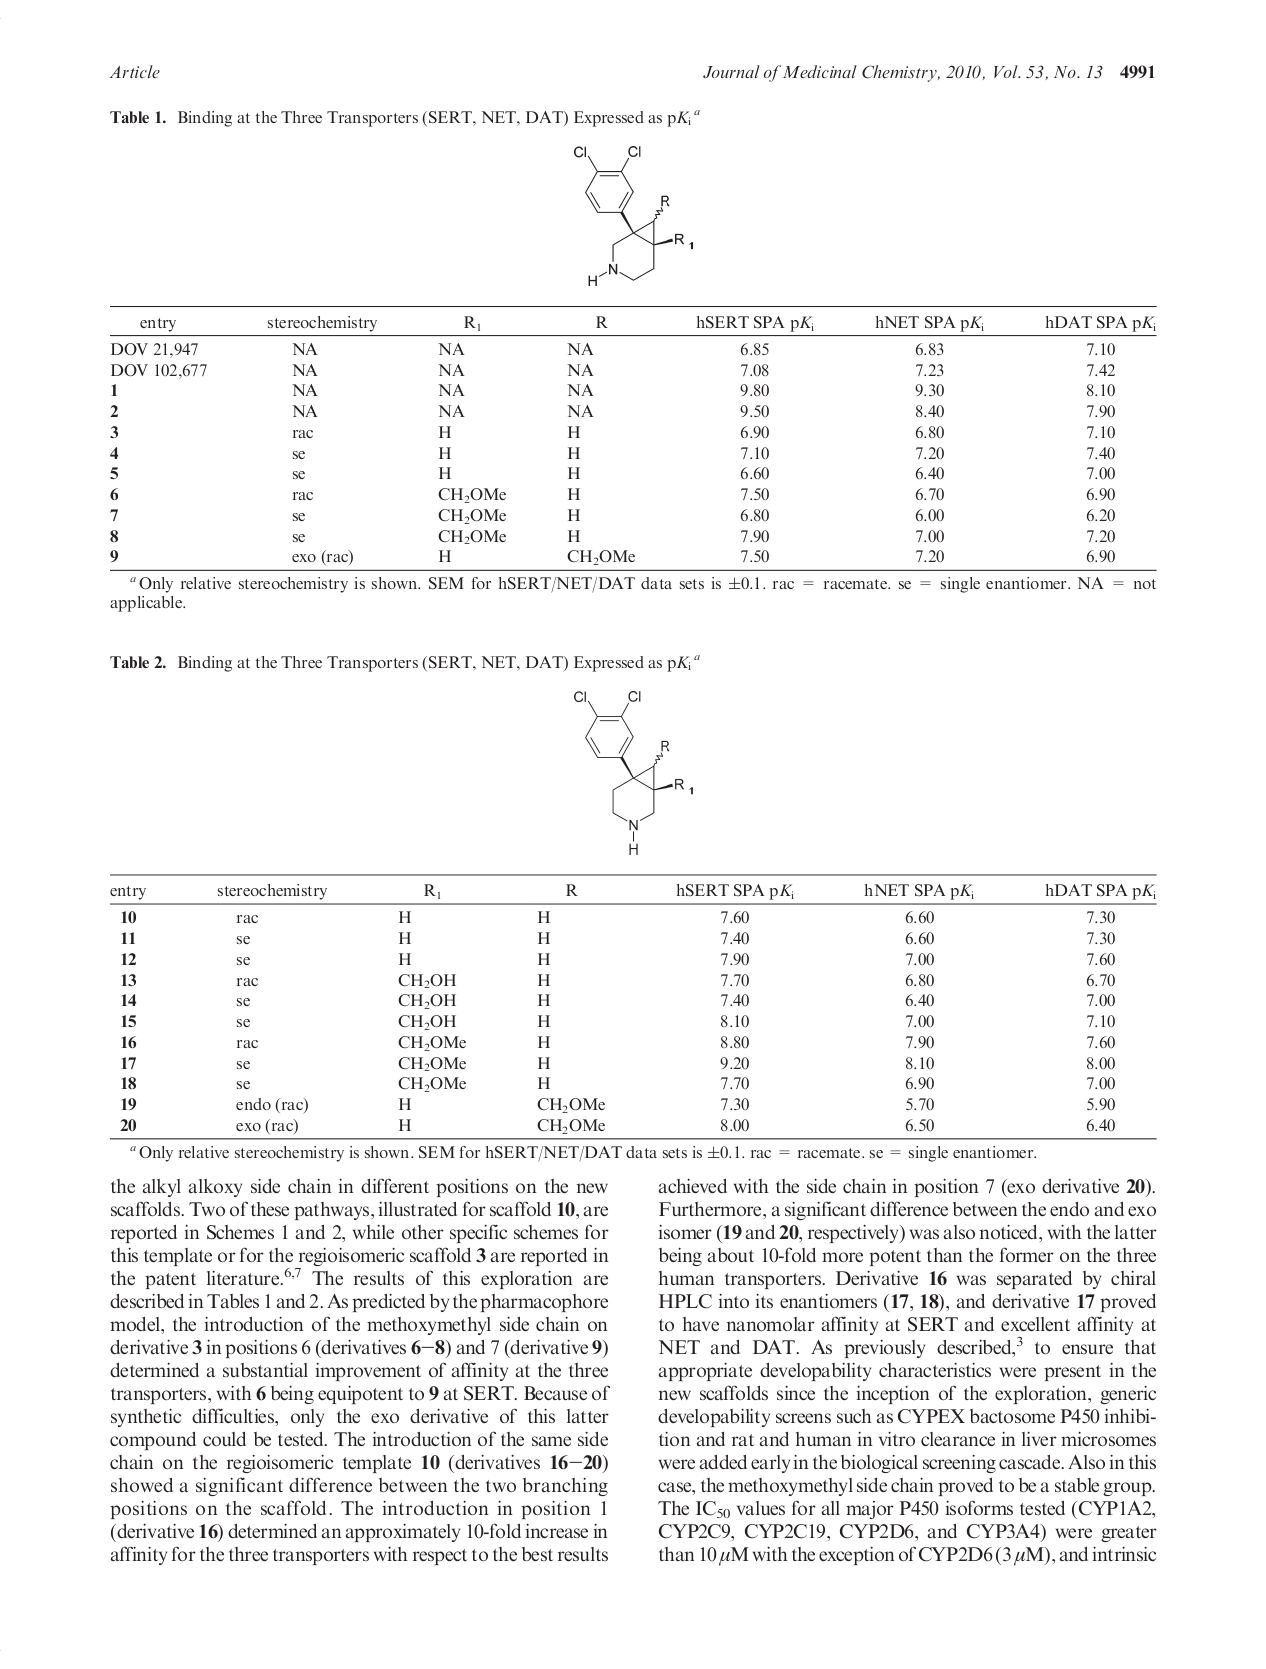exist_molecular: (569, 686, 696, 856), (572, 142, 696, 289)
